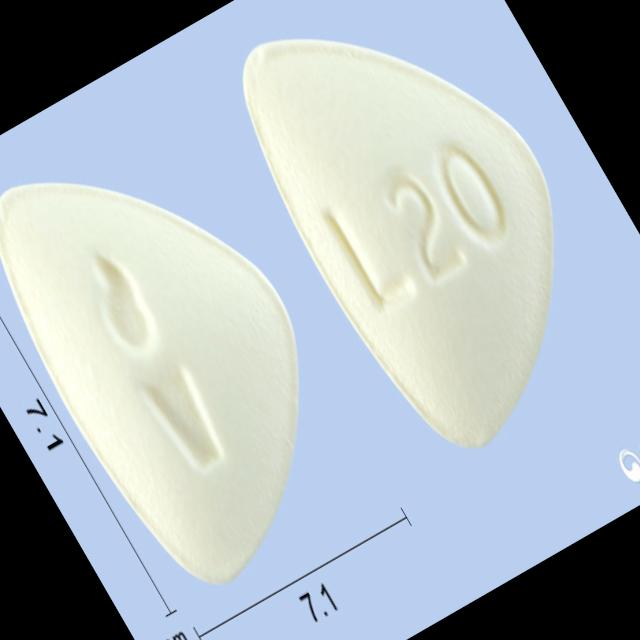Leflu - 10mg: (203, 0, 640, 475), (0, 94, 393, 611)
